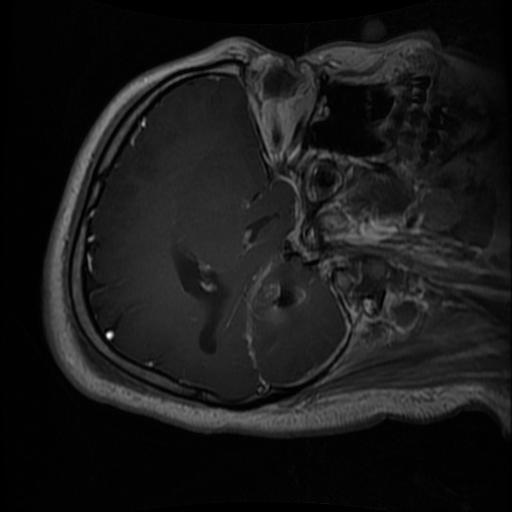glioma: (252, 282, 308, 326)
